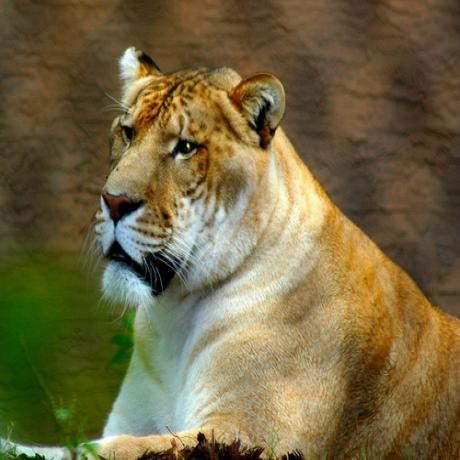Lion: (92, 42, 459, 460)
